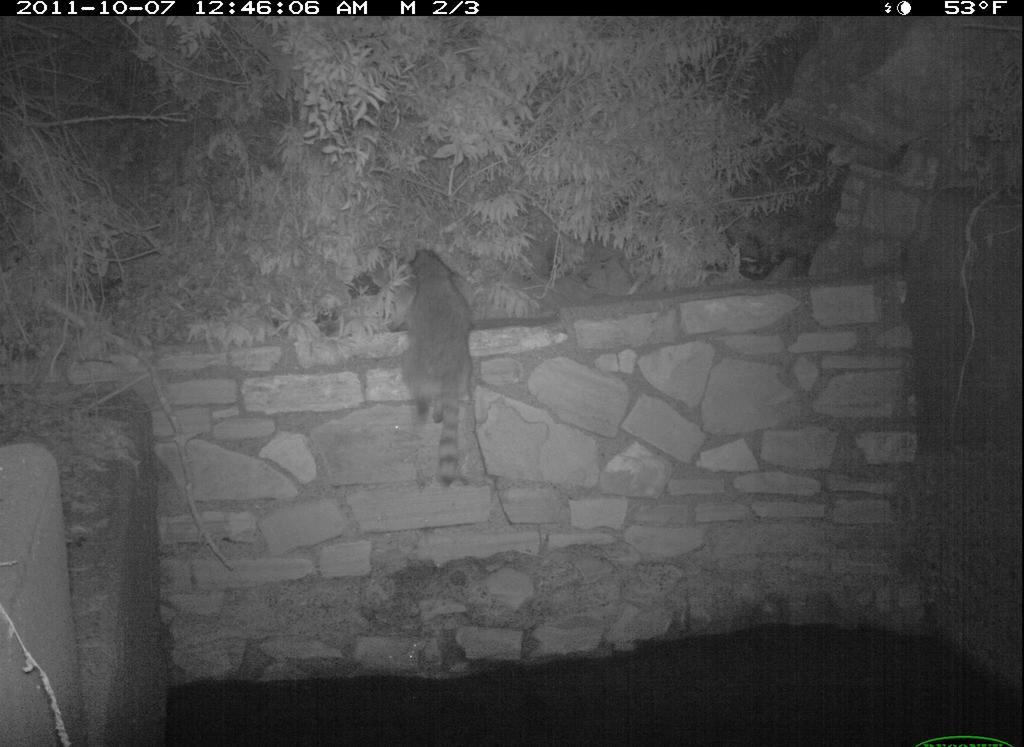raccoon: (397, 248, 481, 492)
